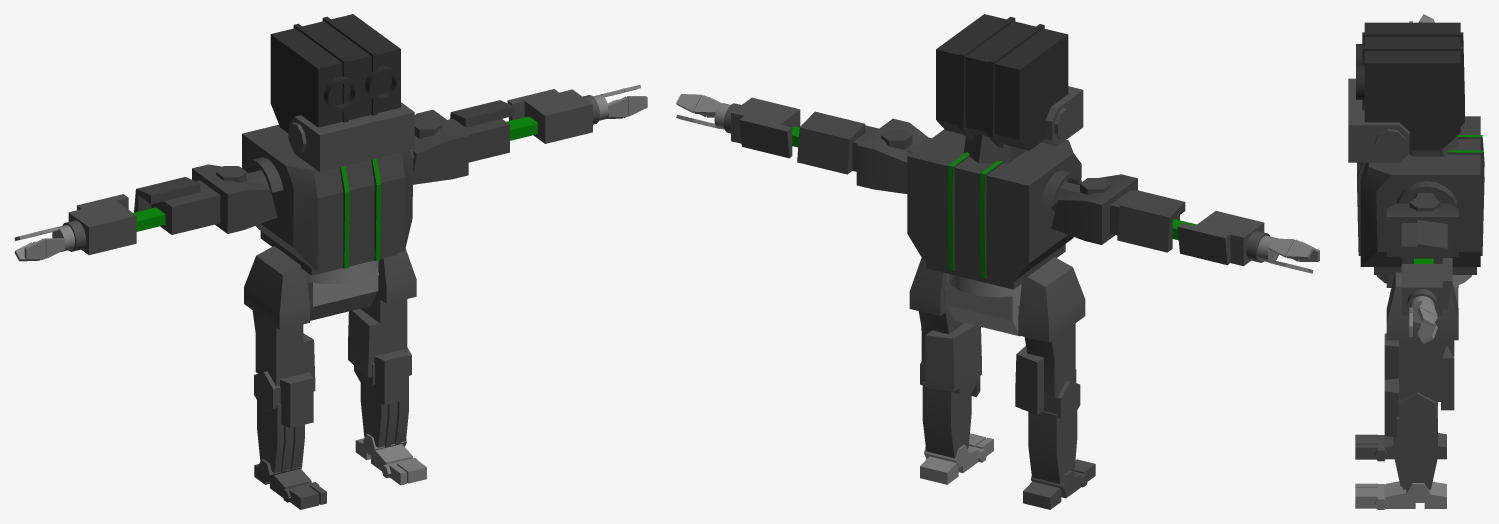
The model's file is robo 2.obj.
The picture shows the model from 3 angles, left to right: view 1: azimuth 30°, elevation 25°; view 2: azimuth 150°, elevation 25°; view 3: azimuth 270°, elevation 25°; orthographic projection.
Parts seen in each view (by area): view 1: body, head, R_QUAD, R_Sholder, L_Sholder, jaw, L_QUAD, R_Thy, L_Thy, pCube14, Arm_pCube14, Legs1_pCylinder14 (+4 smaller); view 2: body, head, R_QUAD, R_Sholder, L_Sholder, L_QUAD, R_Thy, Arm_pCube14, L_Thy, pCube14, Legs1_pCylinder14, jaw (+2 smaller); view 3: head, body, L_QUAD, L_Thy, L_Sholder, jaw, pCube14, L_FootBall, R_Toe, L_Toe, R_Thy, R_FootBall (+4 smaller).
Part boxes in pixels (x1,y1,x2,y2): body: [242, 124, 418, 275]; head: [270, 14, 400, 132]; R_QUAD: [244, 246, 315, 391]; R_Sholder: [134, 164, 277, 234]; L_Sholder: [412, 100, 514, 184]; jaw: [288, 102, 414, 172]; L_QUAD: [348, 248, 416, 377]; R_Thy: [254, 371, 313, 473]; L_Thy: [354, 347, 411, 447]; pCube14: [507, 89, 599, 143]; Arm_pCube14: [62, 194, 136, 255]; Legs1_pCylinder14: [306, 260, 378, 320]; body: [905, 129, 1081, 289]; head: [936, 14, 1068, 150]; R_QUAD: [1015, 257, 1085, 414]; R_Sholder: [1051, 174, 1185, 252]; L_Sholder: [797, 111, 928, 193]; L_QUAD: [909, 258, 981, 391]; R_Thy: [1021, 369, 1080, 483]; Arm_pCube14: [1177, 211, 1269, 266]; L_Thy: [920, 361, 980, 458]; pCube14: [723, 97, 800, 158]; Legs1_pCylinder14: [945, 273, 1021, 336]; jaw: [1041, 86, 1083, 146]; head: [1356, 22, 1464, 150]; body: [1357, 116, 1484, 274]; L_QUAD: [1386, 272, 1458, 410]; L_Thy: [1384, 378, 1437, 489]; L_Sholder: [1386, 196, 1458, 263]; jaw: [1348, 78, 1409, 162]; pCube14: [1401, 258, 1452, 315]; L_FootBall: [1385, 481, 1446, 508]; R_Toe: [1355, 434, 1387, 461]; L_Toe: [1355, 483, 1387, 509]; R_Thy: [1384, 333, 1437, 405]; R_FootBall: [1385, 433, 1446, 459].
Size of the model in its own units: 14.68 by 9.82 by 2.77.
